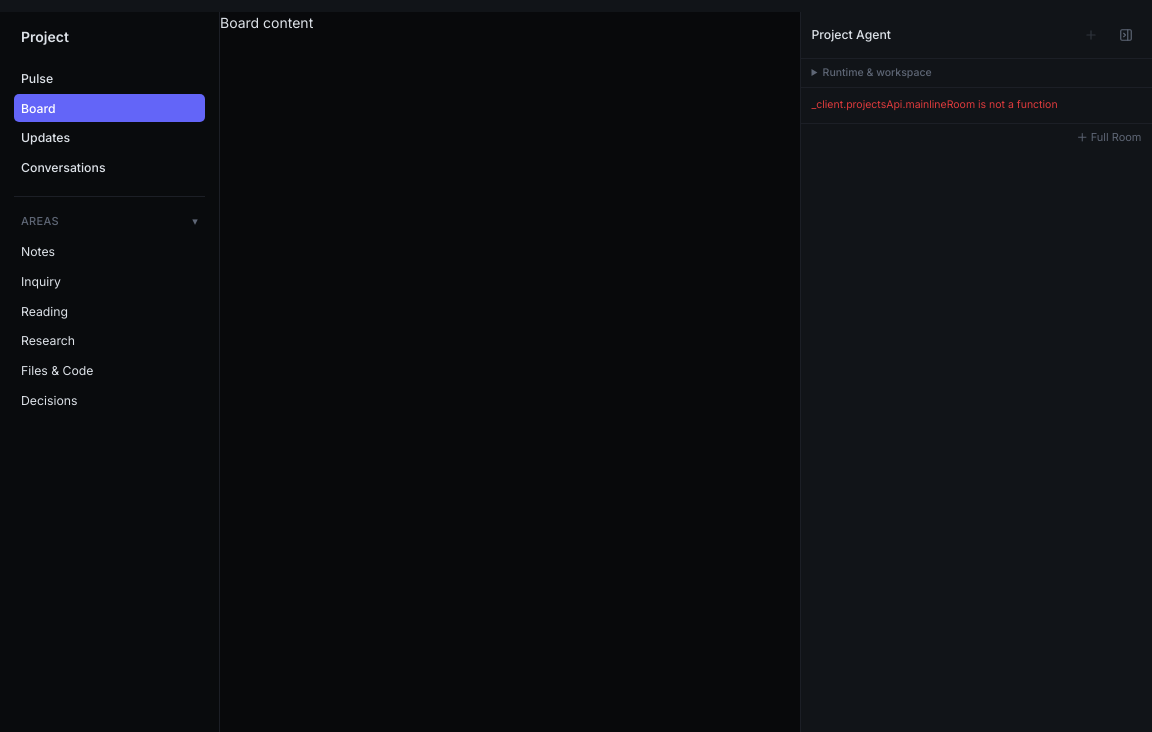
Test case: Project execution Areas › can put the Areas list away and remembers that
Expected: the link "Inquiry" is shown, [21,274,61,289]
What coordinates should you click on to do the following:
click the button "Areas ▾"
I would click on:
 (110, 221)
Its box is [14,207,205,234].
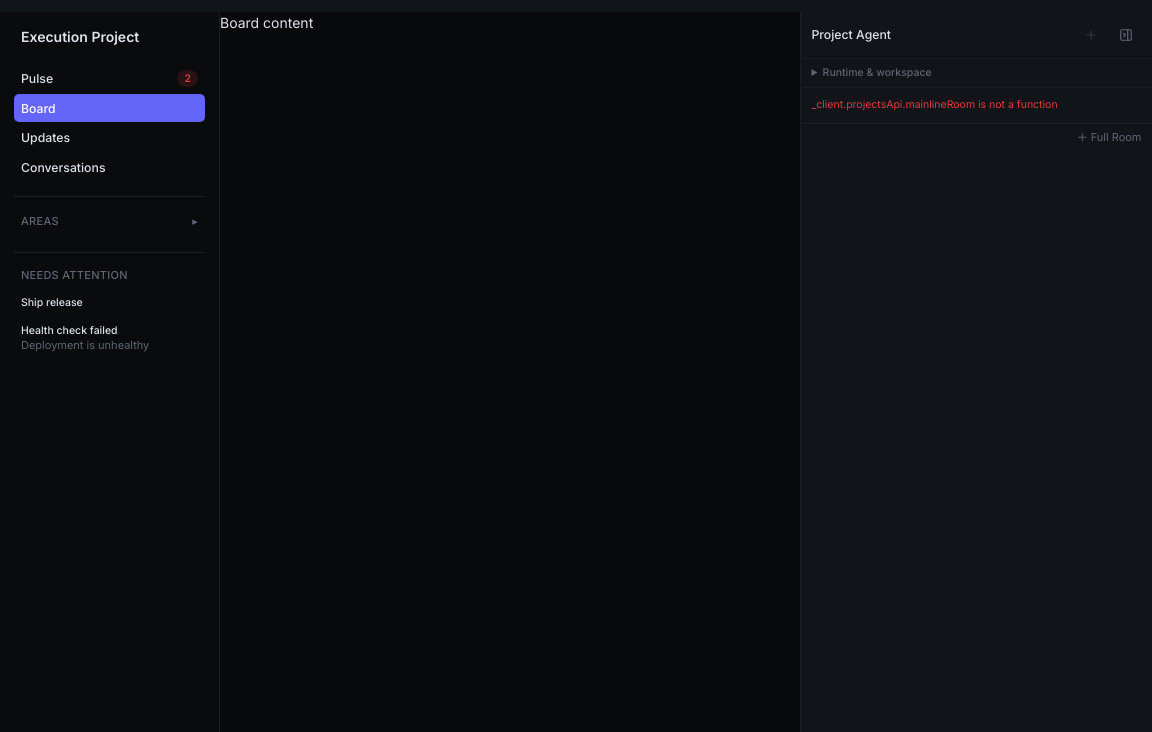
Expected: the link "Board" is shown, [14,94,205,122]
Expected: the link "Inquiry" is gone
